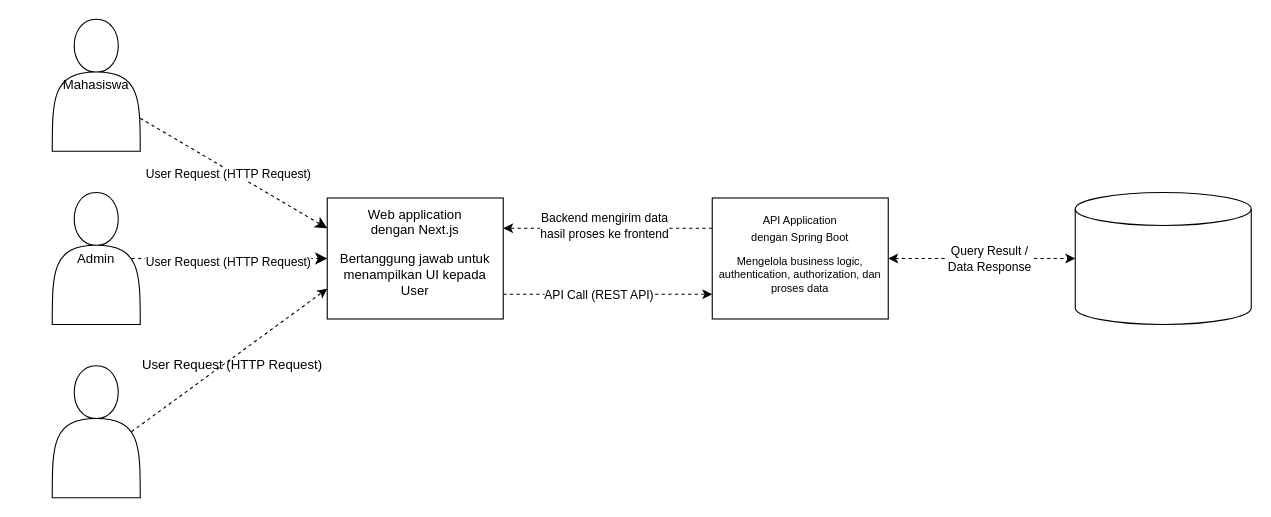
The diagram is 1271 pixels wide and 517 high, and some of its shapes have lost their labels. The shapes that lost their labels are listed below. From the top down, each one's centre as x and y in pixels, then its label:
At point (1162, 257): "Database dengan Supabase (PostgreSQL) Penyimpanan data utama aplikasi".
At point (95, 431): "Dosen".
